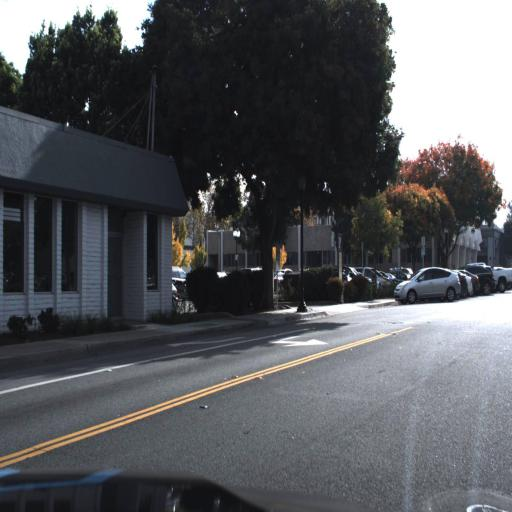car: (394, 265, 462, 303), (467, 260, 494, 294), (489, 265, 511, 296)
